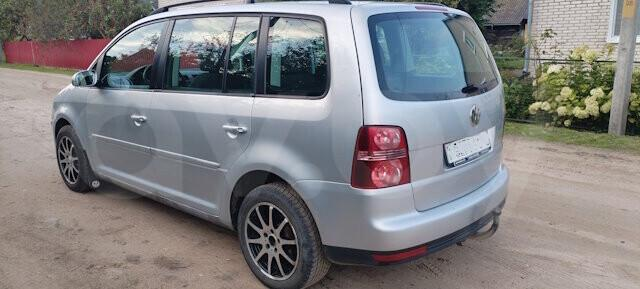Touran_2006-2010: (51, 0, 510, 289)
